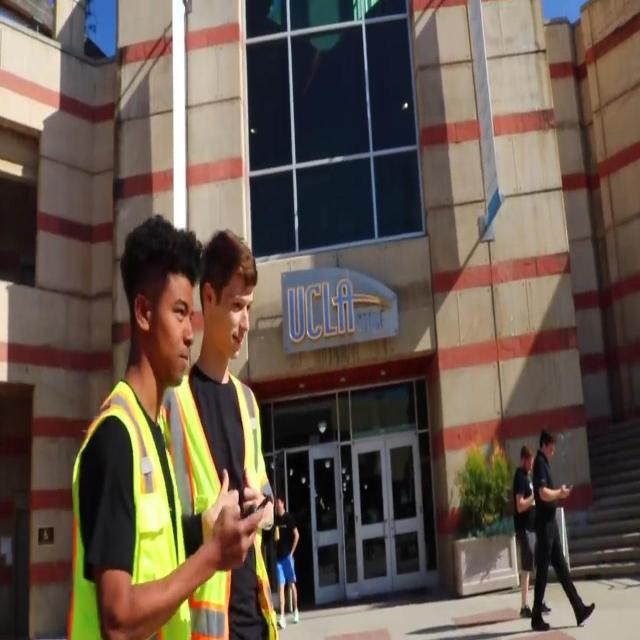Vest: (67, 375, 191, 639), (162, 371, 279, 637)
